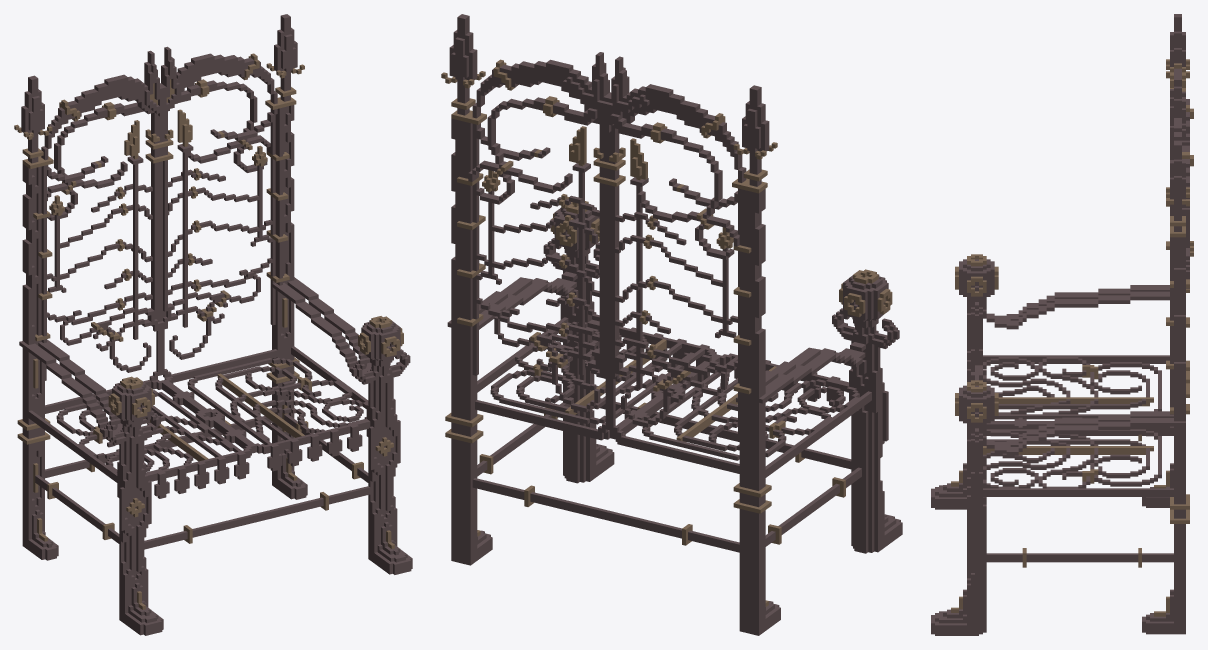
The model's file is Trono_1.obj.
3 views of the same model, side by side, from view 1: azimuth 30°, elevation 25°; view 2: azimuth 150°, elevation 25°; view 3: azimuth 270°, elevation 25° (orthographic). The views are drawn at different scales.
Bounding box in the file's own units: 9.2 × 13.5 × 6.6.
1 material, 1 textured.
